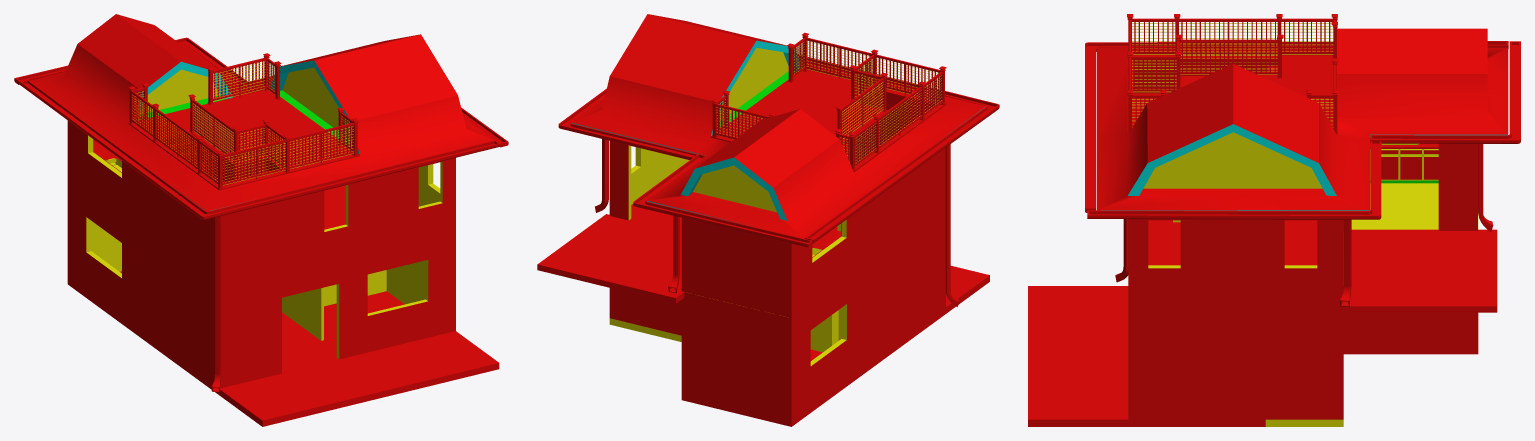
The model's file is dadu_geo_grp.fbx.
3 renders of one model, left to right at view 1: azimuth 30°, elevation 25°; view 2: azimuth 150°, elevation 25°; view 3: azimuth 270°, elevation 25°, orthographic. The views are drawn at different scales.
Visible parts, largest first — view 1: dadu_floor_3_rooftop, dadu_floor_1_walls, dadu_floor_2_walls, dadu_floor_1_patio, dadu_floor_3_railing_2, dadu_floor_3_roof, dadu_floor_3_gutters, dadu_floor_3_railing_1, dadu_floor_1_floor, dadu_floor_2_floor; view 2: dadu_floor_3_rooftop, dadu_floor_1_walls, dadu_floor_2_walls, dadu_floor_3_railing_2, dadu_floor_3_gutters, dadu_floor_2_patio, dadu_floor_3_roof, dadu_floor_3_railing_1, dadu_floor_1_floor, dadu_floor_1_patio, dadu_floor_2_floor; view 3: dadu_floor_3_rooftop, dadu_floor_1_walls, dadu_floor_2_walls, dadu_floor_1_patio, dadu_floor_2_patio, dadu_floor_3_gutters, dadu_floor_3_railing_2, dadu_floor_2_floor, dadu_floor_3_railing_1, dadu_floor_3_roof, dadu_floor_1_floor, StandardCounterHeightWidth (+2 smaller).
Part boxes in pixels (x1,y1,x2,y2): dadu_floor_3_rooftop: (30, 14, 494, 211); dadu_floor_1_walls: (67, 178, 455, 388); dadu_floor_2_walls: (67, 120, 455, 287); dadu_floor_1_patio: (217, 331, 499, 426); dadu_floor_3_railing_2: (129, 56, 358, 188); dadu_floor_3_roof: (128, 90, 359, 190); dadu_floor_3_gutters: (14, 37, 508, 392); dadu_floor_3_railing_1: (128, 53, 358, 185); dadu_floor_1_floor: (67, 271, 404, 393); dadu_floor_2_floor: (324, 185, 345, 229); dadu_floor_3_rooftop: (571, 14, 985, 238); dadu_floor_1_walls: (609, 206, 945, 420); dadu_floor_2_walls: (609, 102, 945, 317); dadu_floor_3_railing_2: (712, 36, 945, 171); dadu_floor_3_gutters: (558, 54, 999, 306); dadu_floor_2_patio: (537, 214, 684, 303); dadu_floor_3_roof: (710, 70, 946, 172); dadu_floor_3_railing_1: (711, 32, 946, 162); dadu_floor_1_floor: (609, 309, 944, 426); dadu_floor_1_patio: (944, 265, 989, 314); dadu_floor_2_floor: (630, 204, 837, 232); dadu_floor_3_rooftop: (1096, 28, 1508, 210); dadu_floor_1_walls: (1128, 213, 1478, 419); dadu_floor_2_walls: (1128, 73, 1477, 310); dadu_floor_1_patio: (1028, 286, 1131, 426); dadu_floor_2_patio: (1341, 229, 1497, 312); dadu_floor_3_gutters: (1085, 41, 1520, 307); dadu_floor_3_railing_2: (1127, 17, 1337, 133); dadu_floor_2_floor: (1148, 183, 1438, 265); dadu_floor_3_railing_1: (1127, 14, 1337, 124); dadu_floor_3_roof: (1127, 55, 1337, 135); dadu_floor_1_floor: (1132, 347, 1478, 426); StandardCounterHeightWidth: (1370, 143, 1438, 183).
Bounding box in the file's own units: 887 × 739 × 1069.
